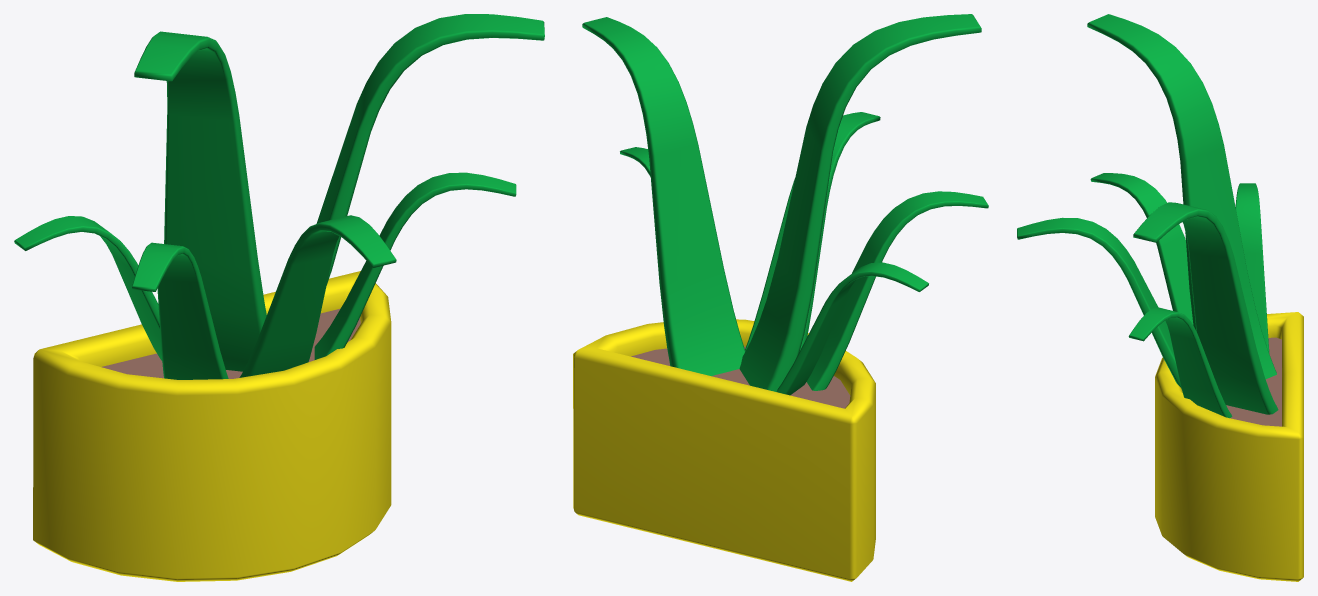
Rendered from Town_12_Plant_2.glb.
The picture shows the model from 3 angles, left to right: view 1: azimuth 30°, elevation 25°; view 2: azimuth 150°, elevation 25°; view 3: azimuth 270°, elevation 25°; orthographic projection. The views are drawn at different scales.
Visible parts, largest first — view 1: Town_12_Plant_2; view 2: Town_12_Plant_2; view 3: Town_12_Plant_2.
Boxes of the visible parts, <box> form: Town_12_Plant_2: <box>14,14,544,581</box>; Town_12_Plant_2: <box>573,14,988,581</box>; Town_12_Plant_2: <box>1017,14,1303,581</box>.
Bounding box in the file's own units: 0.532 × 0.6276 × 0.3721.
Materials: 1 (1 with a texture image).
